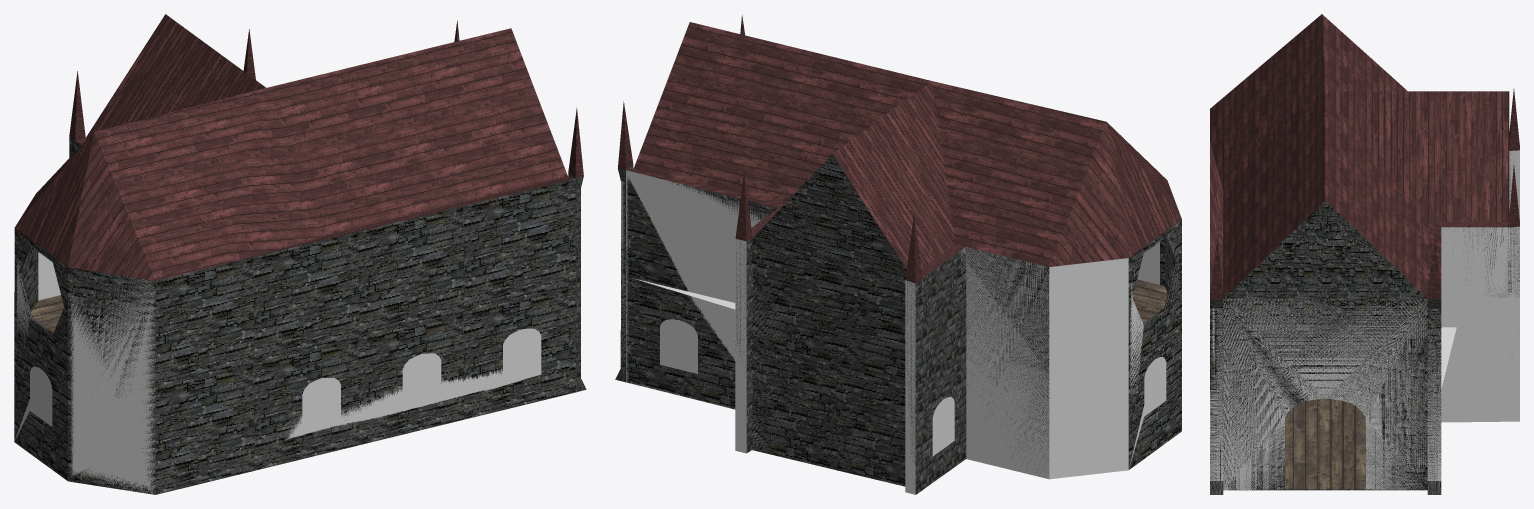
Rendered from Church.glb.
3 renders of one model, left to right at view 1: azimuth 30°, elevation 25°; view 2: azimuth 150°, elevation 25°; view 3: azimuth 270°, elevation 25°, orthographic. The views are drawn at different scales.
Visible parts, largest first — view 1: Church, Church Col; view 2: Church, Church Col; view 3: Church, Church Col.
Part boxes in pixels (box(x1,y1,x2,y2)): Church: box(14, 14, 586, 494); Church Col: box(15, 252, 541, 494); Church: box(615, 15, 1181, 494); Church Col: box(621, 170, 1178, 494); Church: box(1210, 14, 1519, 494); Church Col: box(1210, 150, 1519, 490).
Size of the model in its own units: 9.63 by 6.13 by 5.89.
Materials: 17 (17 with a texture image).
